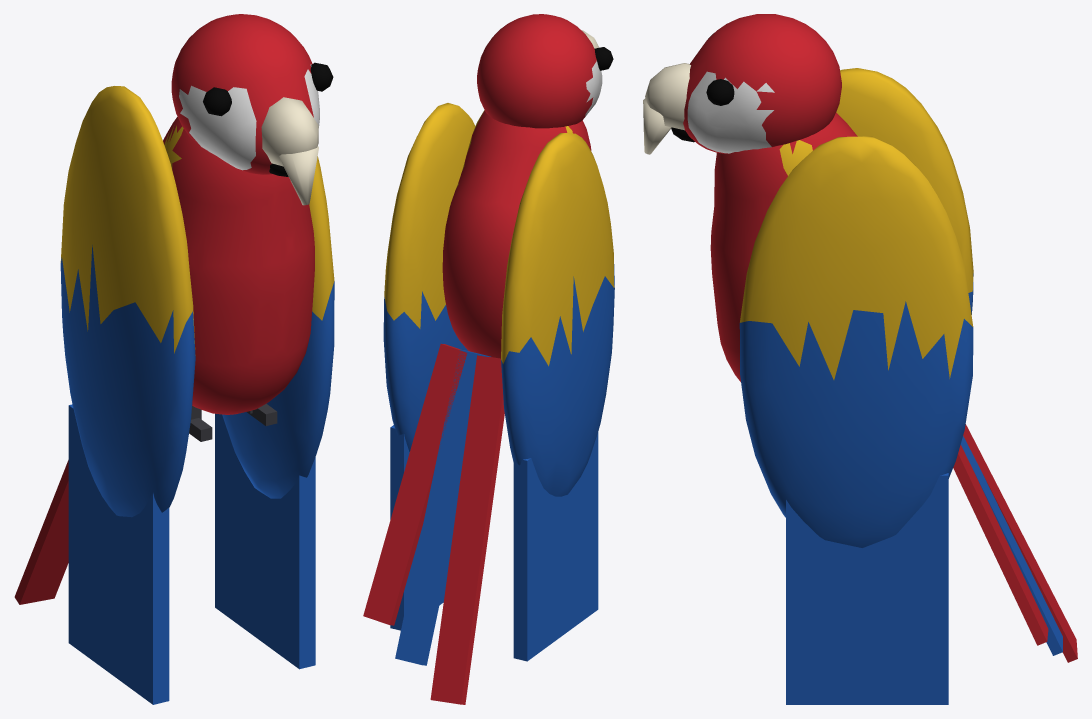
Rendered from Pet_Parrot_Fly.gltf.
3 views of the same model, side by side, from view 1: azimuth 30°, elevation 25°; view 2: azimuth 150°, elevation 25°; view 3: azimuth 270°, elevation 25° (orthographic). The views are drawn at different scales.
Parts seen in each view (by area): view 1: ParrotFly_Wing_R, Pet_Parrot_Fly, ParrotFly_Wing_L, ParrotFly_Head; view 2: ParrotFly_Wing_R, Pet_Parrot_Fly, ParrotFly_Wing_L, ParrotFly_Head; view 3: ParrotFly_Wing_L, ParrotFly_Head, Pet_Parrot_Fly, ParrotFly_Wing_R.
Part boxes in pixels (x1,y1,x2,y2): ParrotFly_Wing_R: [60, 86, 195, 704]; Pet_Parrot_Fly: [14, 117, 314, 604]; ParrotFly_Wing_L: [215, 156, 334, 669]; ParrotFly_Head: [171, 14, 333, 205]; ParrotFly_Wing_R: [501, 133, 614, 661]; Pet_Parrot_Fly: [363, 110, 591, 704]; ParrotFly_Wing_L: [383, 103, 475, 630]; ParrotFly_Head: [477, 14, 613, 128]; ParrotFly_Wing_L: [739, 136, 973, 704]; ParrotFly_Head: [643, 14, 841, 154]; Pet_Parrot_Fly: [710, 112, 1077, 662]; ParrotFly_Wing_R: [836, 68, 973, 314].
Bounding box in the file's own units: 0.121 × 0.4022 × 0.2405.
